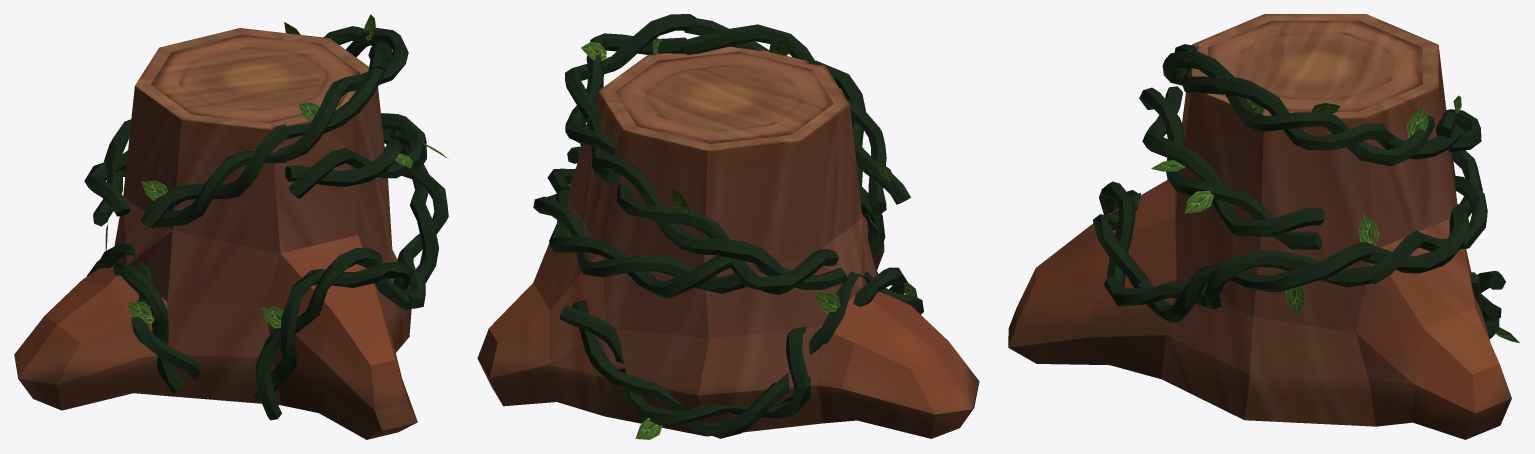
Rendered from BindedTree.FBX.
The picture shows the model from 3 angles, left to right: view 1: azimuth 30°, elevation 25°; view 2: azimuth 150°, elevation 25°; view 3: azimuth 270°, elevation 25°; orthographic projection. The views are drawn at different scales.
Parts seen in each view (by area): view 1: Tree, Vine008, Vine005, Vine013, Vine006, Vine009, Vine010, Vine012; view 2: Tree, Vine010, Vine007, Vine011, Vine008, Vine012, Vine006, Vine005, Vine009; view 3: Tree, Vine009, Vine013, Vine012, Vine011, Vine005, Vine008, Vine010, Vine007.
Part boxes in pixels (x1,y1,x2,y2): Tree: [14, 28, 417, 439]; Vine008: [140, 68, 384, 228]; Vine005: [253, 247, 411, 420]; Vine013: [285, 113, 426, 198]; Vine006: [86, 243, 200, 393]; Vine009: [382, 129, 448, 309]; Vine010: [84, 119, 131, 226]; Vine012: [323, 26, 408, 84]; Tree: [477, 46, 979, 438]; Vine010: [595, 152, 847, 294]; Vine007: [560, 300, 810, 438]; Vine011: [533, 189, 746, 297]; Vine008: [681, 18, 910, 214]; Vine012: [565, 14, 696, 183]; Vine006: [786, 267, 923, 389]; Vine005: [856, 165, 885, 274]; Vine009: [547, 168, 575, 200]; Tree: [1008, 14, 1511, 439]; Vine009: [1103, 242, 1374, 322]; Vine013: [1139, 86, 1324, 249]; Vine012: [1214, 75, 1463, 166]; Vine011: [1363, 150, 1487, 283]; Vine005: [1093, 181, 1147, 285]; Vine008: [1162, 44, 1234, 97]; Vine010: [1436, 109, 1481, 151]; Vine007: [1470, 271, 1505, 338].
Bounding box in the file's own units: 203 × 143 × 204.
3 materials, 2 textured.
